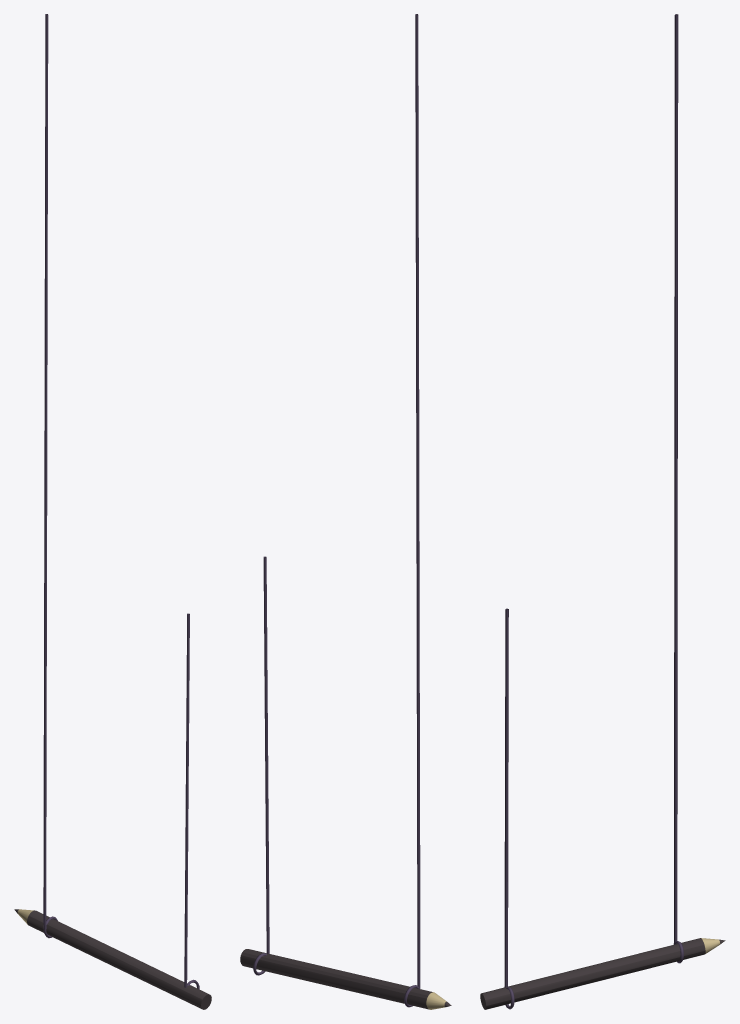
The model's file is LapizP17.fbx.
The picture shows the model from 3 angles, left to right: view 1: azimuth 30°, elevation 25°; view 2: azimuth 210°, elevation 25°; view 3: azimuth 270°, elevation 25°; orthographic projection. The views are drawn at different scales.
Parts seen in each view (by area): view 1: Cylinder.027; view 2: Cylinder.027; view 3: Cylinder.027.
Part boxes in pixels (box(x1,y1,x2,y2)): Cylinder.027: box(14, 14, 211, 1009); Cylinder.027: box(240, 14, 451, 1009); Cylinder.027: box(480, 14, 725, 1009).
Size of the model in its own units: 506 by 5615 by 1298.
